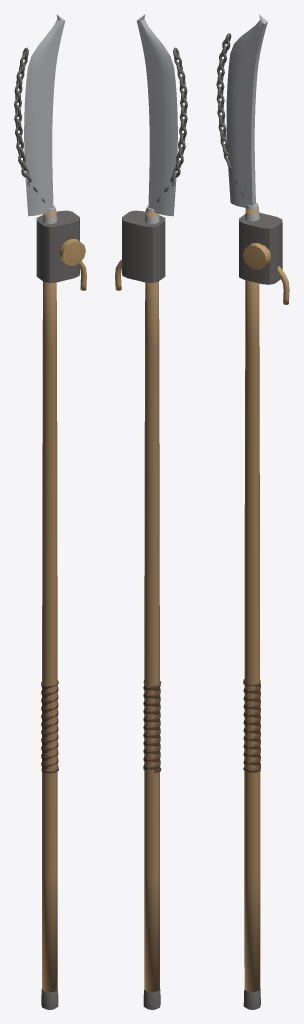
Rendered from gnome-ripsaw-glaive.glb.
The picture shows the model from 3 angles, left to right: view 1: azimuth 30°, elevation 25°; view 2: azimuth 150°, elevation 25°; view 3: azimuth 330°, elevation 25°; orthographic projection.
Parts seen in each view (by area): view 1: gnome-ripsaw-glaive; view 2: gnome-ripsaw-glaive; view 3: gnome-ripsaw-glaive.
Part boxes in pixels (x1,y1,x2,y2): gnome-ripsaw-glaive: (14,14,86,1009); gnome-ripsaw-glaive: (115,14,187,1009); gnome-ripsaw-glaive: (216,14,289,1009).
Bounding box in the file's own units: 0.4351 × 5.68 × 0.1985.
